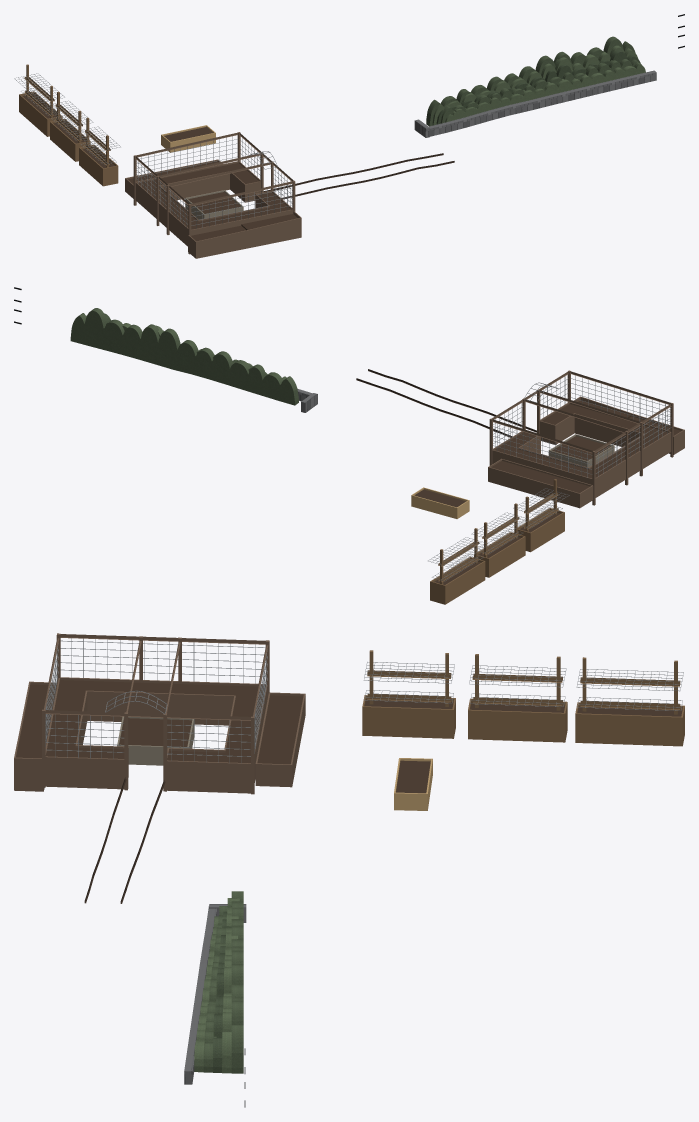
The model's file is garden.glb.
3 views of the same model, one above another, from view 1: azimuth 30°, elevation 25°; view 2: azimuth 150°, elevation 25°; view 3: azimuth 270°, elevation 25° (orthographic). The views are drawn at different scales.
Visible parts, largest first — view 1: site_cage_beds, p45_cage_mesh, site_cage_beds_soil, p44_planting_front, p45_cage_bed_south, p44_planting_back, site_cage_rails, p44_planter_wall, site_arbor_wire, p44_planting_mid_a, p44_planting_mid_c, p44_planter_cap (+12 smaller); view 2: p44_planting_back, site_cage_beds, p45_cage_mesh, site_cage_beds_soil, site_arbor_wire, site_cage_rails, p45_cage_bed_north, site_arbor_bed_3, site_arbor_rails, site_arbor_bed_2, site_arbor_bed_1, p45_cage_bed_north_soil (+7 smaller); view 3: site_cage_beds, site_cage_beds_soil, p45_cage_mesh, site_arbor_wire, site_arbor_rails, site_arbor_bed_3, site_arbor_bed_2, site_arbor_bed_1, site_cage_rails, p45_cage_bed_north_soil, p44_planting_back, site_cage_bed_centre_soil (+17 smaller).
Boxes of the visible parts, left/top/right/bottom form: site_cage_beds: left=135, top=161, right=292, bottom=246; p45_cage_mesh: left=135, top=136, right=292, bottom=228; site_cage_beds_soil: left=138, top=163, right=290, bottom=229; p44_planting_front: left=445, top=62, right=645, bottom=122; p45_cage_bed_south: left=196, top=217, right=301, bottom=258; p44_planting_back: left=426, top=36, right=635, bottom=126; site_cage_rails: left=135, top=132, right=293, bottom=206; p44_planter_wall: left=424, top=74, right=656, bottom=137; site_arbor_wire: left=14, top=73, right=120, bottom=164; p44_planting_mid_a: left=440, top=59, right=641, bottom=123; p44_planting_mid_c: left=432, top=45, right=638, bottom=125; p44_planter_cap: left=424, top=70, right=656, bottom=131; p44_planting_back: left=70, top=308, right=298, bottom=405; site_cage_beds: left=492, top=402, right=671, bottom=497; p45_cage_mesh: left=492, top=376, right=671, bottom=477; site_cage_beds_soil: left=494, top=404, right=668, bottom=478; site_arbor_wire: left=428, top=488, right=569, bottom=581; site_cage_rails: left=492, top=371, right=671, bottom=452; p45_cage_bed_north: left=488, top=458, right=593, bottom=508; site_arbor_bed_3: left=430, top=556, right=485, bottom=604; site_arbor_rails: left=438, top=493, right=558, bottom=581; site_arbor_bed_2: left=474, top=532, right=525, bottom=577; site_arbor_bed_1: left=517, top=508, right=564, bottom=552; p45_cage_bed_north_soil: left=491, top=461, right=589, bottom=492; site_cage_beds: left=45, top=677, right=267, bottom=793; site_cage_beds_soil: left=46, top=680, right=265, bottom=763; p45_cage_mesh: left=45, top=638, right=267, bottom=763; site_arbor_wire: left=363, top=662, right=683, bottom=710; site_arbor_rails: left=367, top=670, right=680, bottom=709; site_arbor_bed_3: left=575, top=702, right=684, bottom=746; site_arbor_bed_2: left=468, top=698, right=567, bottom=742; site_arbor_bed_1: left=362, top=695, right=455, bottom=738; site_cage_rails: left=43, top=634, right=268, bottom=720; p45_cage_bed_north_soil: left=258, top=695, right=303, bottom=764; p44_planting_back: left=231, top=891, right=243, bottom=1073; site_cage_bed_centre_soil: left=119, top=718, right=192, bottom=746.
Bounding box in the file's own units: 26.38 × 3 × 16.8.
13 materials, 5 textured.
